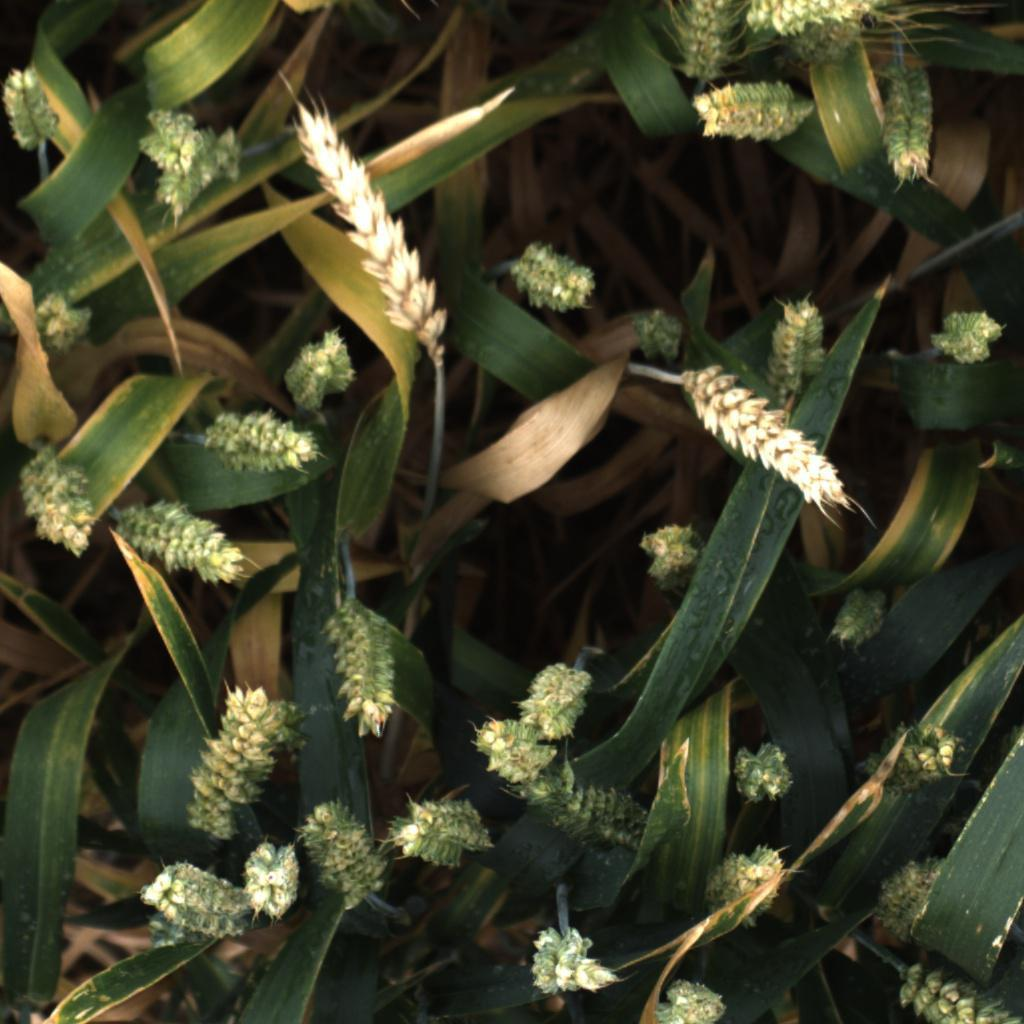0-0: (287, 99, 467, 355), (673, 362, 851, 519), (159, 688, 277, 835), (111, 500, 253, 588), (327, 597, 404, 746), (465, 708, 572, 810), (149, 119, 243, 231), (541, 779, 649, 876), (849, 715, 970, 799), (688, 75, 820, 148), (201, 405, 326, 481), (295, 795, 380, 899), (138, 859, 241, 944), (281, 323, 369, 421), (387, 788, 488, 871), (20, 456, 98, 561), (525, 919, 622, 1000), (877, 68, 941, 186), (516, 648, 600, 736), (703, 841, 794, 921), (507, 238, 601, 313), (771, 2, 872, 70), (764, 289, 837, 382), (924, 300, 1009, 379), (239, 841, 310, 929), (872, 850, 942, 937), (632, 514, 705, 593), (659, 0, 732, 79), (738, 0, 888, 38), (0, 57, 64, 146), (132, 107, 214, 176), (727, 737, 795, 809), (819, 587, 889, 656), (625, 298, 690, 369), (33, 288, 94, 354), (266, 687, 317, 760), (649, 976, 726, 1024)
